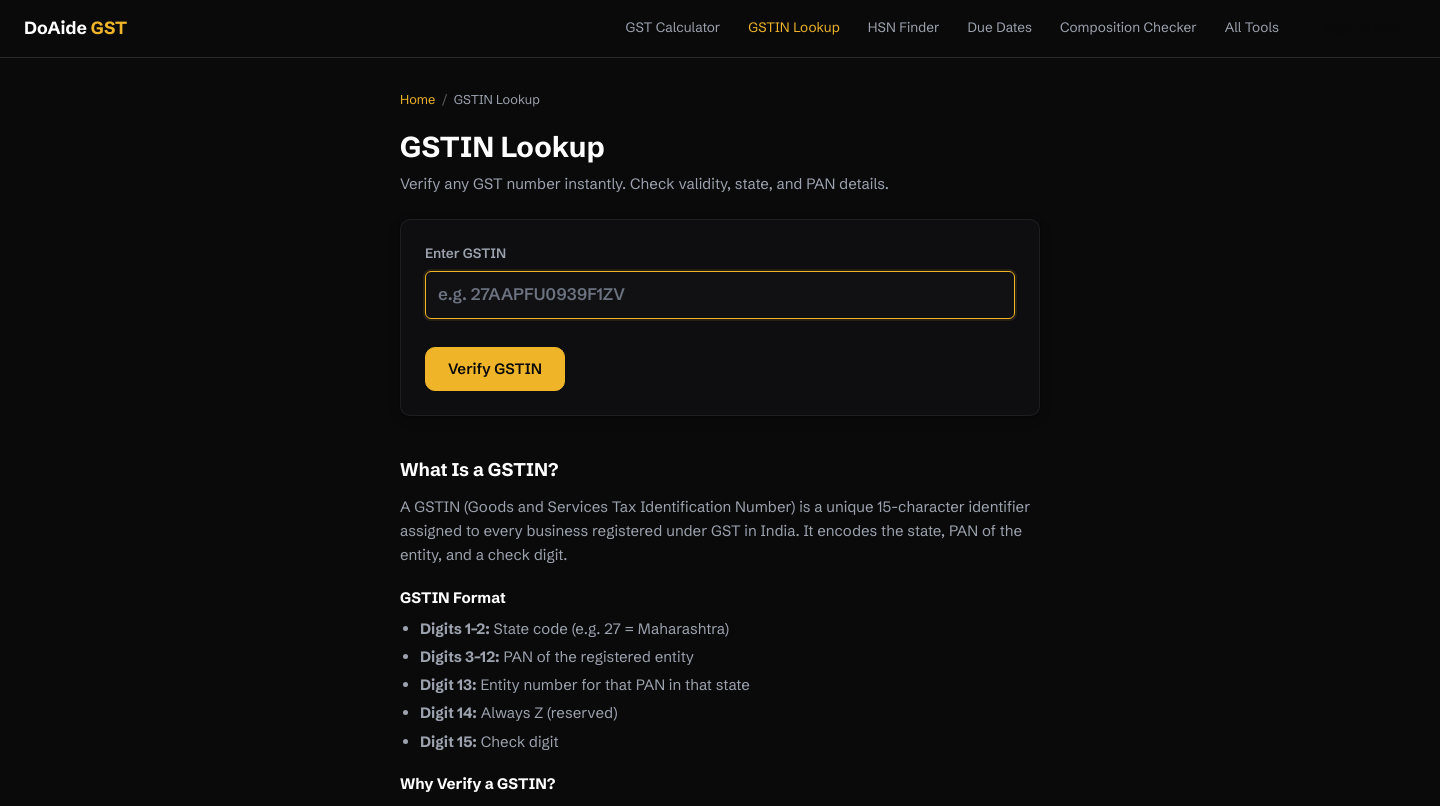
Test: LookupPage › shows valid result after verification
Type "27AAPFU0939F1ZV" into the field with placeholder "e.g. 27AAPFU0939F1ZV". click: (720, 295)
box: [425,271,1015,319]
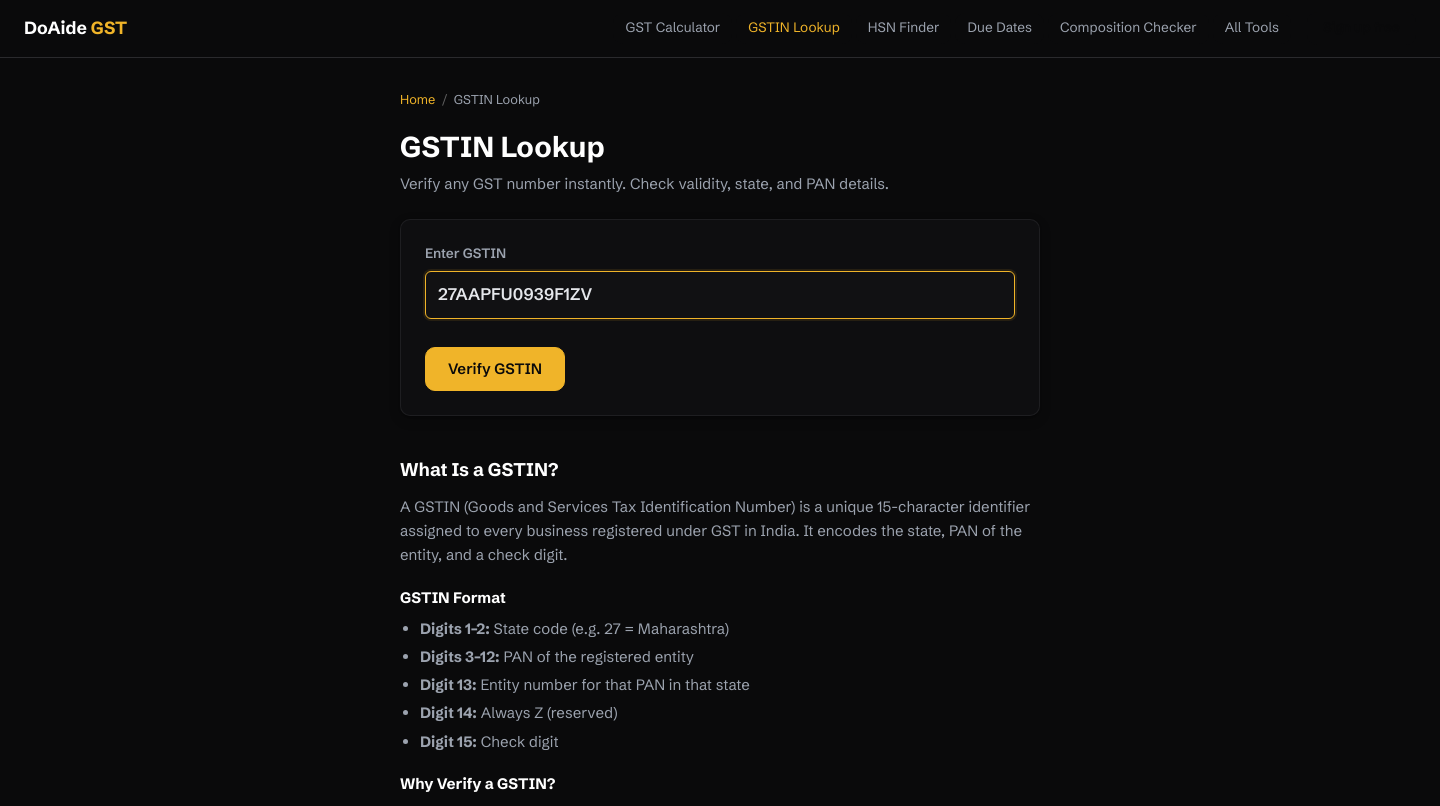
Click the button "Verify GSTIN". click: (495, 369)
box: [425,347,565,391]
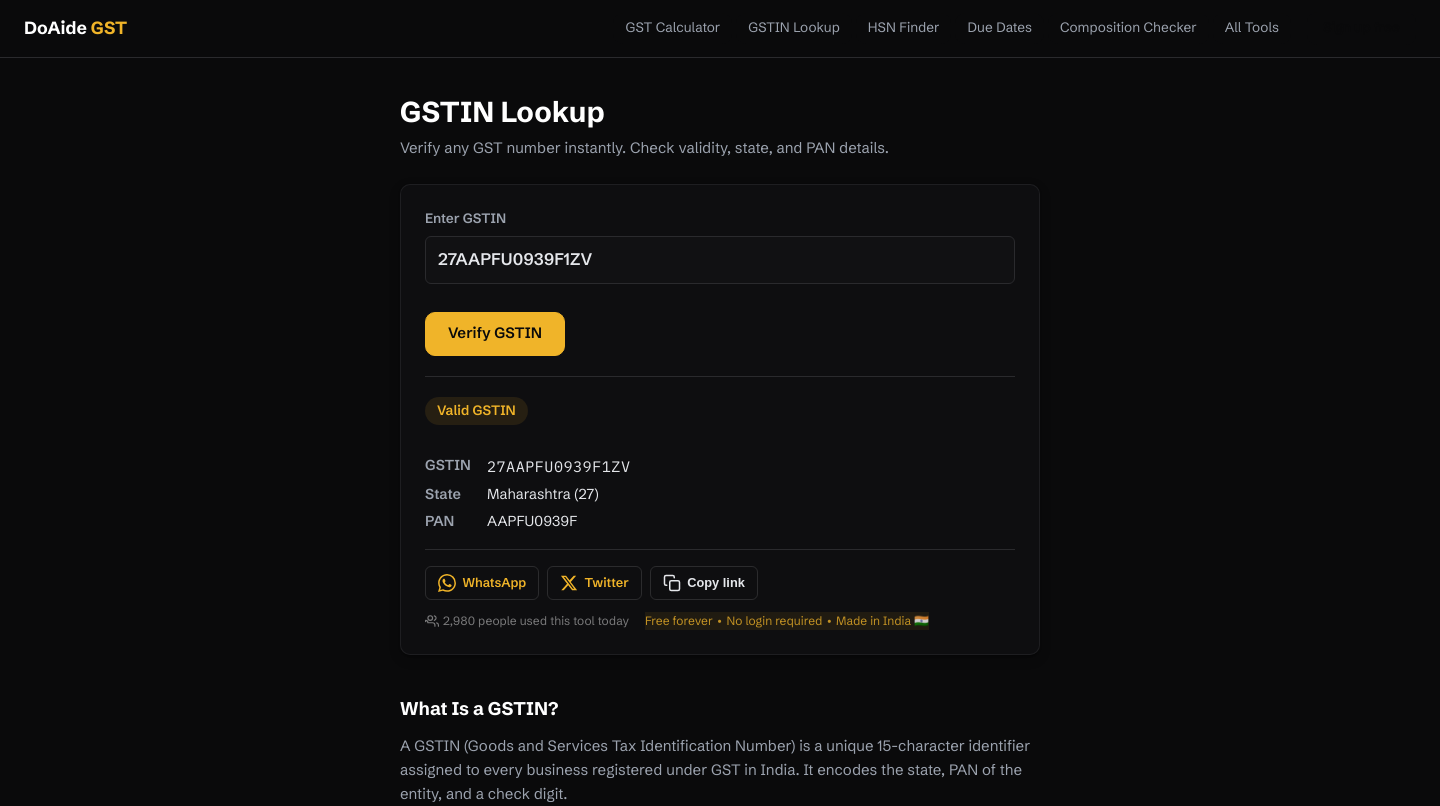
Now the text "Valid GSTIN" is shown, box [425,397,528,425]
Now the text "Valid GSTIN" shows "Maharashtra", box [487,485,571,503]
Now the text "AAPFU0939F" is shown, box [487,512,577,530]
